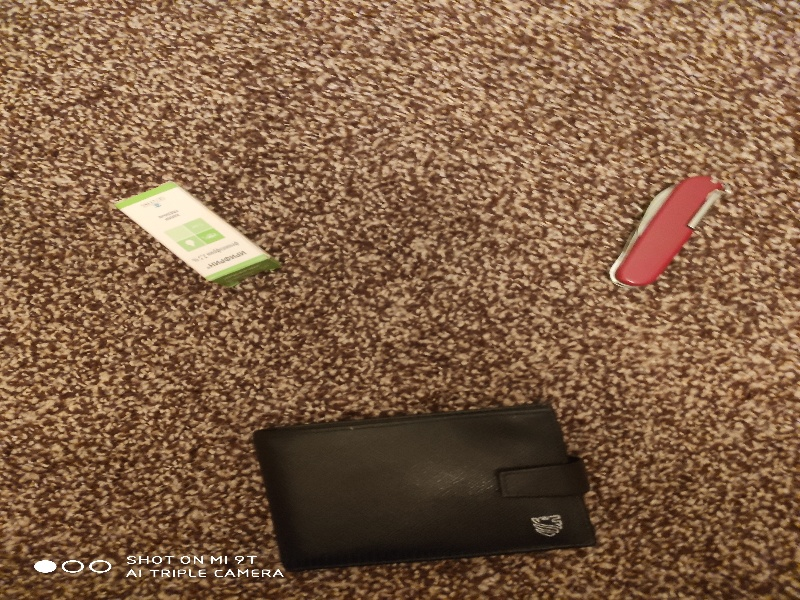ifrin: (91, 165, 291, 295)
knife: (598, 165, 728, 308)
wallet: (241, 395, 618, 588)
